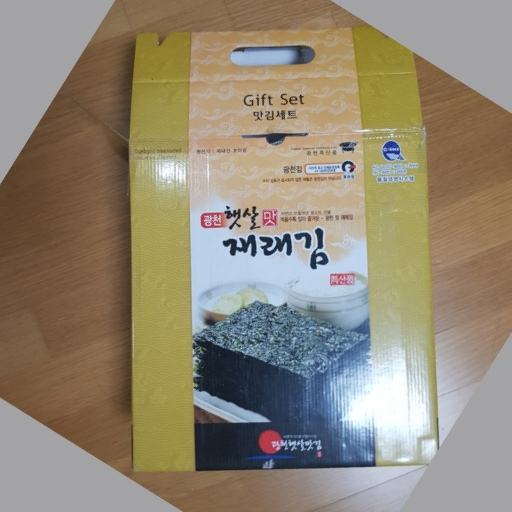Paper_0: (124, 28, 454, 476)
